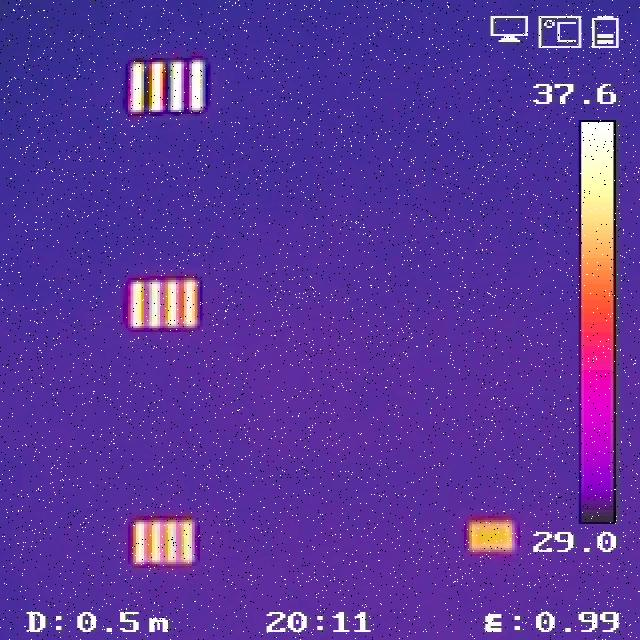Distinguishable 4-bar target: (125, 59, 211, 112), (127, 281, 200, 328), (135, 518, 197, 564), (469, 522, 516, 551)
